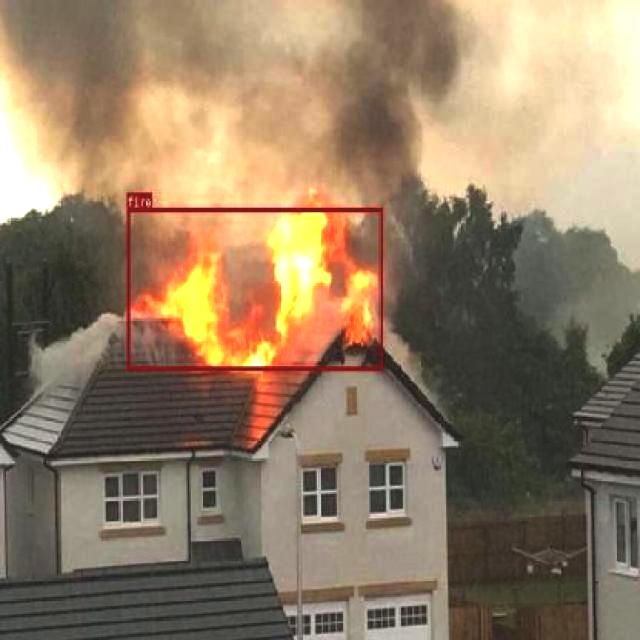fire: (126, 208, 382, 369)
